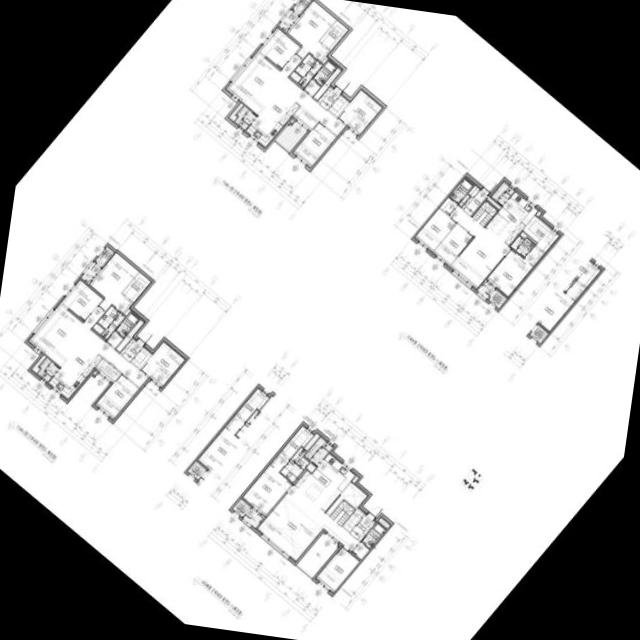background: (0, 0, 640, 640)
space_balconi: (296, 533, 338, 577), (274, 123, 305, 152), (304, 437, 332, 466), (490, 181, 514, 206), (37, 357, 59, 382), (234, 105, 256, 130), (278, 10, 298, 31), (80, 262, 100, 283), (242, 508, 263, 528), (476, 281, 495, 299)
space_bedroom: (242, 452, 292, 516), (286, 0, 336, 62), (89, 252, 138, 314), (486, 246, 544, 297), (337, 89, 382, 135), (140, 341, 185, 387), (95, 374, 139, 419), (293, 122, 336, 167), (316, 547, 359, 592), (414, 208, 456, 252), (258, 28, 299, 69), (61, 280, 102, 321), (433, 224, 472, 265)
space_dressroom: (522, 216, 559, 253), (281, 426, 313, 459), (319, 20, 348, 50), (122, 272, 150, 302)
space_front: (349, 514, 375, 541), (461, 190, 487, 216), (120, 338, 143, 362), (317, 86, 339, 110)
space_kitchen: (294, 453, 355, 511), (245, 90, 299, 147), (48, 342, 102, 399), (485, 191, 537, 245)
space_living_room: (28, 304, 148, 388), (226, 52, 345, 136), (257, 485, 359, 561), (449, 206, 510, 288)
space_other: (326, 482, 366, 515), (313, 68, 341, 100), (115, 320, 143, 352), (471, 200, 497, 227), (329, 499, 355, 526), (292, 106, 318, 130), (95, 358, 120, 382), (342, 508, 364, 532), (131, 346, 152, 368), (328, 95, 348, 116), (439, 197, 457, 215), (227, 102, 243, 122), (351, 542, 369, 559), (303, 79, 320, 96), (106, 331, 122, 348), (304, 434, 319, 451), (31, 355, 45, 373), (519, 232, 536, 244), (486, 197, 500, 209), (468, 185, 480, 197), (458, 194, 469, 206), (378, 518, 389, 528), (305, 463, 315, 473), (321, 56, 328, 64), (351, 476, 358, 483), (124, 308, 130, 316), (535, 211, 540, 216), (92, 371, 96, 375), (290, 119, 293, 123)
space_outdoor_room: (94, 246, 113, 266), (231, 499, 250, 517), (488, 290, 506, 308), (292, 0, 311, 14)
space_toilet: (289, 54, 321, 87), (92, 306, 124, 339), (280, 447, 309, 482), (114, 312, 139, 337), (361, 522, 385, 548), (449, 178, 473, 203), (312, 60, 336, 85), (510, 236, 534, 257)
